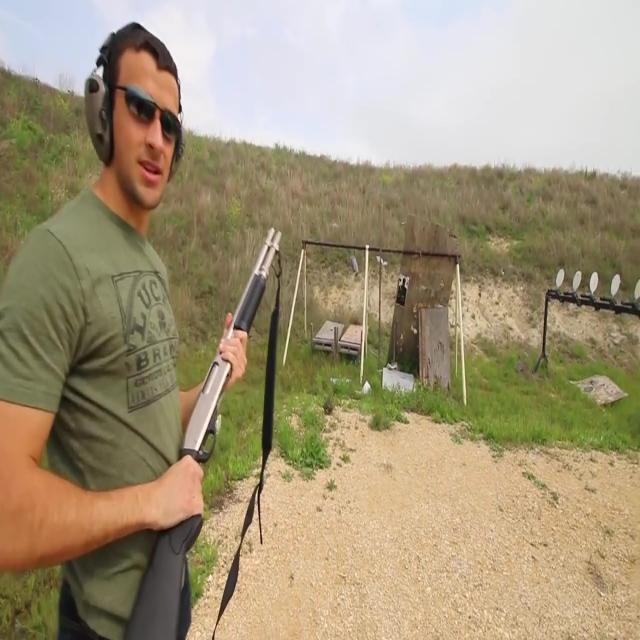Weapon: (121, 212, 307, 640)
